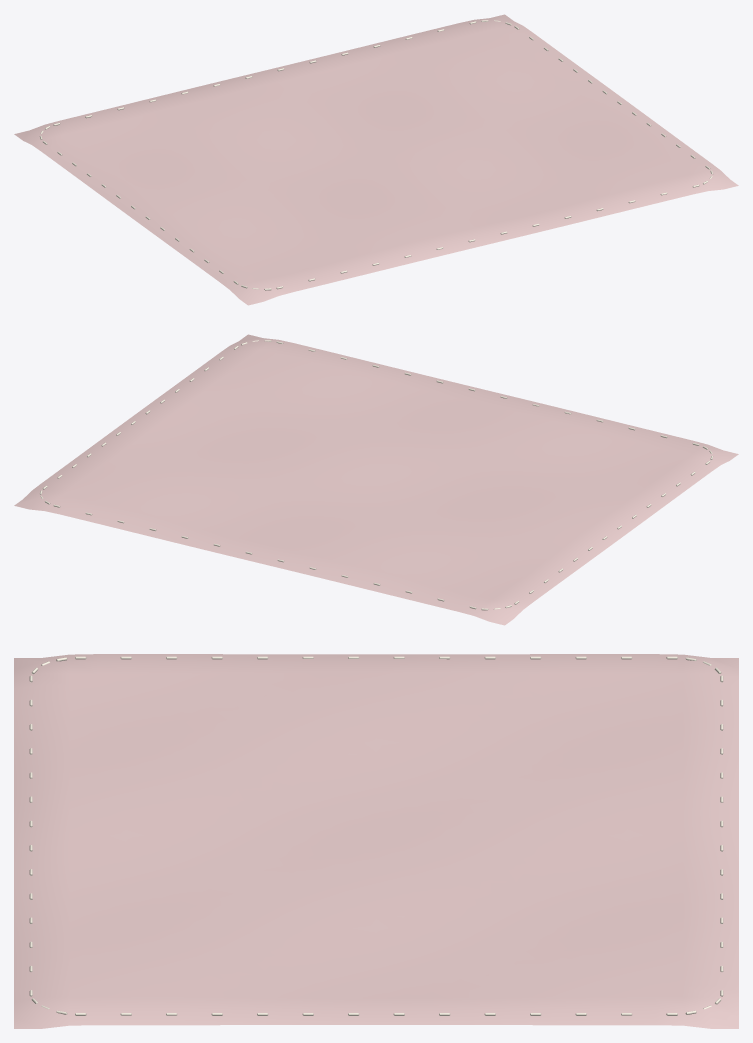
Rendered from patchwork_rug.glb.
3 renders of one model, top to bottom at view 1: azimuth 30°, elevation 25°; view 2: azimuth 150°, elevation 25°; view 3: azimuth 270°, elevation 25°, orthographic. The views are drawn at different scales.
Parts seen in each view (by area): view 1: RugBody; view 2: RugBody; view 3: RugBody.
Part boxes in pixels (bbox=[...]): RugBody: bbox=[14, 14, 738, 305]; RugBody: bbox=[14, 334, 738, 625]; RugBody: bbox=[14, 654, 738, 1028].
Size of the model in its own units: 9.2 by 0.1064 by 7.6.
